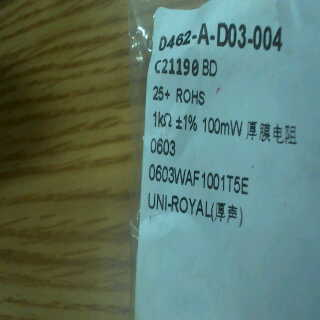1kR: (152, 111, 176, 131)
